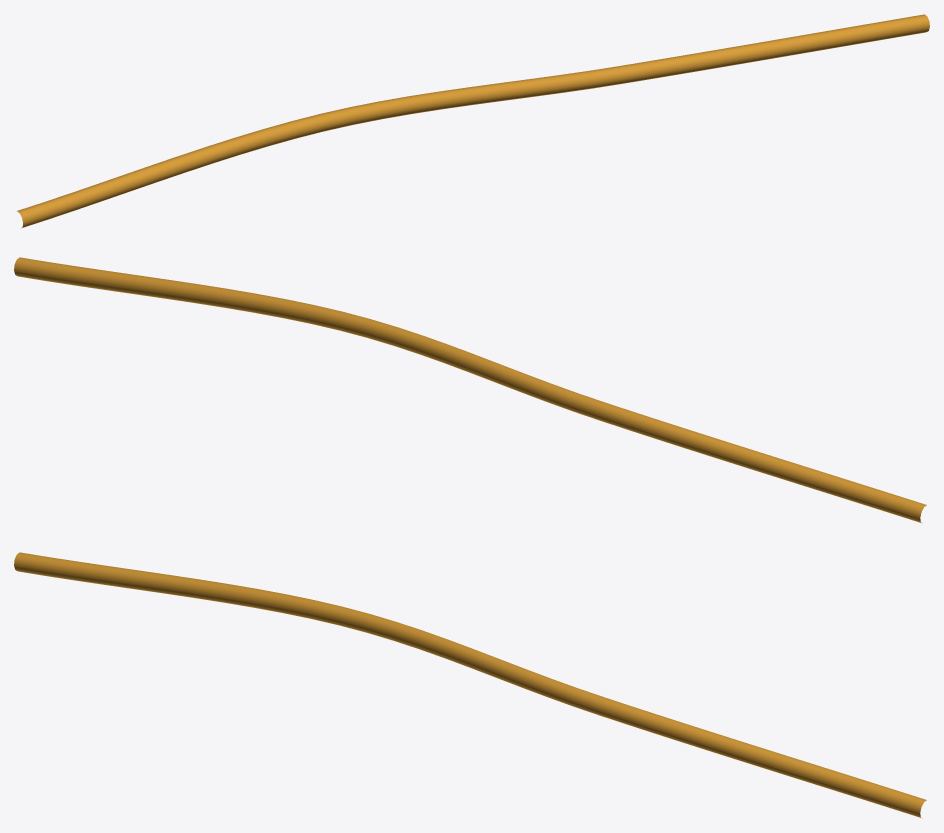
File: power-cable.glb
3 renders of one model, top to bottom at view 1: azimuth 30°, elevation 25°; view 2: azimuth 150°, elevation 25°; view 3: azimuth 330°, elevation 25°, orthographic. The views are drawn at different scales.
Size of the model in its own units: 2 by 0.0899 by 0.1523.
Materials: 1 (1 with a texture image).
